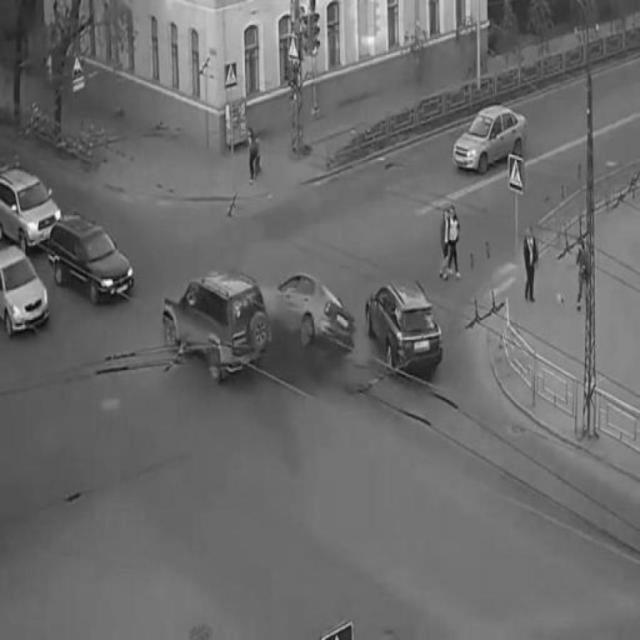accident: (158, 271, 355, 381)
person: (515, 220, 545, 302), (438, 197, 466, 279), (241, 124, 267, 188)
vehicle: (365, 278, 447, 378), (46, 215, 134, 299), (452, 102, 530, 172), (0, 169, 64, 249), (0, 248, 50, 340)
